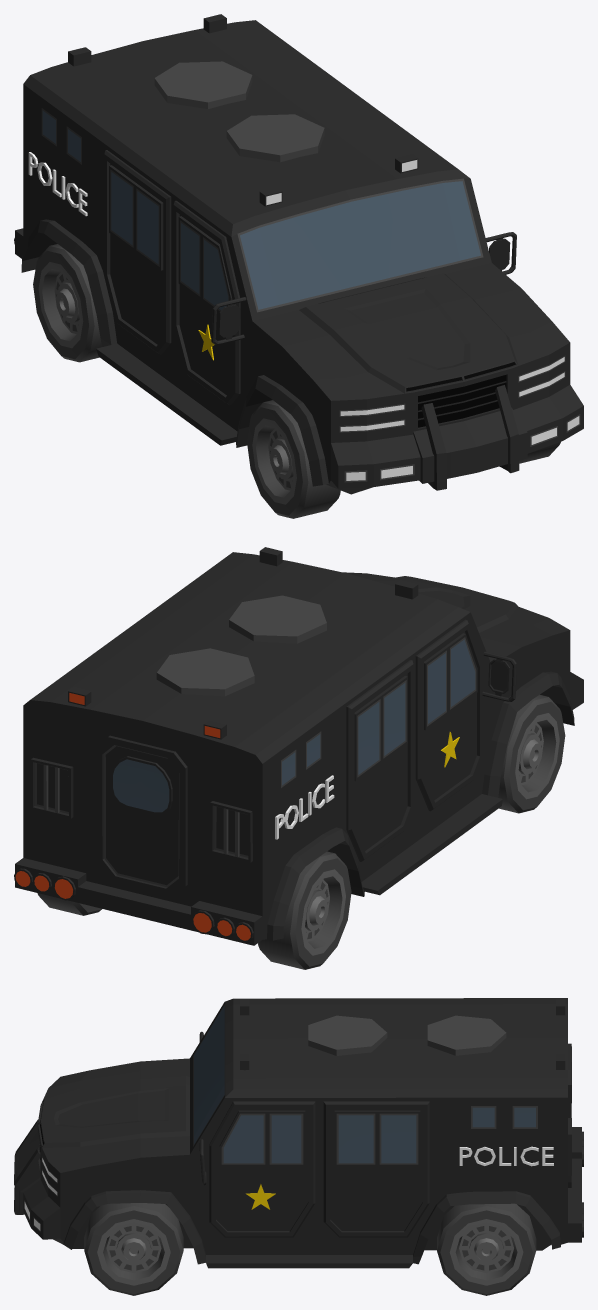
Rendered from Military Vehicle_3.fbx.
3 renders of one model, top to bottom at view 1: azimuth 30°, elevation 25°; view 2: azimuth 150°, elevation 25°; view 3: azimuth 270°, elevation 25°, orthographic. The views are drawn at different scales.
Parts seen in each view (by area): view 1: Military Vehicle_3, Military Vehicle_3 FR Tire, Military Vehicle_3 BR Tire; view 2: Military Vehicle_3, Military Vehicle_3 BR Tire, Military Vehicle_3 FR Tire, Military Vehicle_3 BL Tire; view 3: Military Vehicle_3, Military Vehicle_3 FL Tire, Military Vehicle_3 BL Tire.
Part boxes in pixels (x1,y1,x2,y2): Military Vehicle_3: (14,14,583,494); Military Vehicle_3 FR Tire: (247,400,340,518); Military Vehicle_3 BR Tire: (33,244,101,362); Military Vehicle_3: (14,547,583,945); Military Vehicle_3 BR Tire: (258,851,351,969); Military Vehicle_3 FR Tire: (498,694,565,813); Military Vehicle_3 BL Tire: (37,893,101,915); Military Vehicle_3: (14,998,583,1268); Military Vehicle_3 FL Tire: (84,1203,183,1295); Military Vehicle_3 BL Tire: (437,1203,536,1295).
Size of the model in its own units: 3.28 by 2.69 by 6.47.
